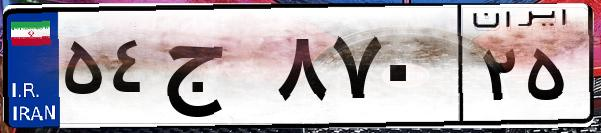0: (385, 28, 445, 110)
2: (475, 38, 525, 113)
4: (110, 28, 158, 98)
5: (57, 26, 110, 100), (525, 38, 570, 115)
7: (330, 28, 385, 110)
8: (270, 28, 330, 110)
ج: (158, 20, 270, 120)
